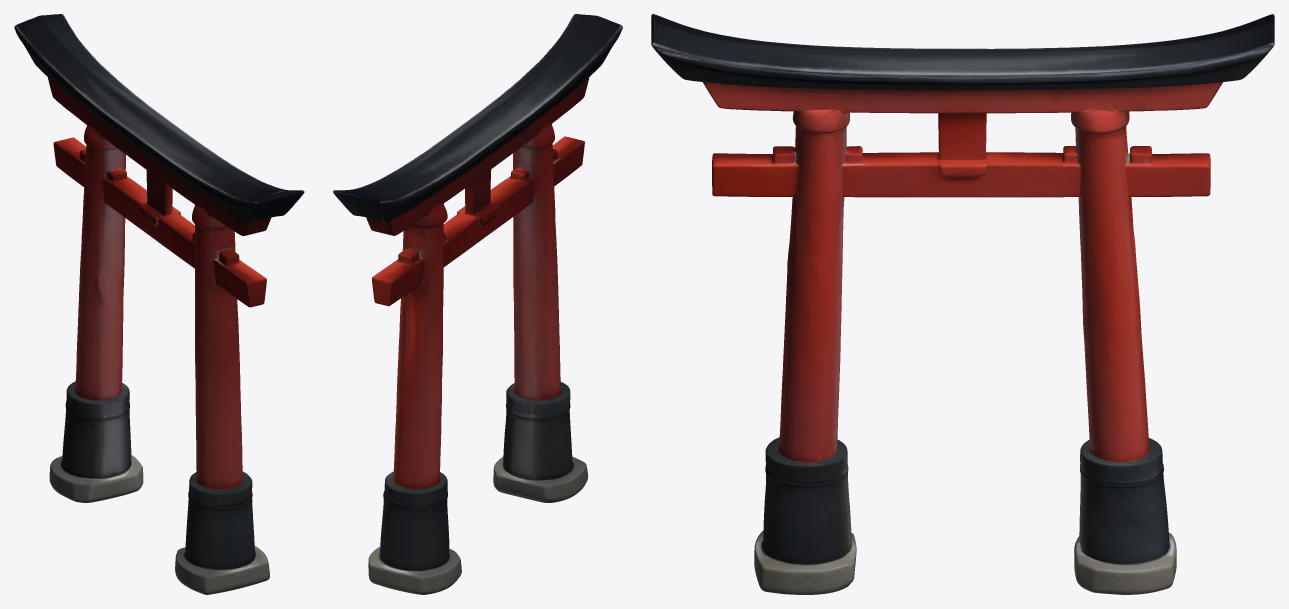
Rendered from city-gate-torii.glb.
3 renders of one model, left to right at view 1: azimuth 30°, elevation 25°; view 2: azimuth 150°, elevation 25°; view 3: azimuth 270°, elevation 25°, orthographic. The views are drawn at different scales.
Parts seen in each view (by area): view 1: tripo_node_249d347b-36fb-42f0-ae8e-8952eec44d99; view 2: tripo_node_249d347b-36fb-42f0-ae8e-8952eec44d99; view 3: tripo_node_249d347b-36fb-42f0-ae8e-8952eec44d99.
Part boxes in pixels (box(x1,y1,x2,y2)): tripo_node_249d347b-36fb-42f0-ae8e-8952eec44d99: box(14, 14, 304, 594); tripo_node_249d347b-36fb-42f0-ae8e-8952eec44d99: box(333, 14, 622, 594); tripo_node_249d347b-36fb-42f0-ae8e-8952eec44d99: box(651, 14, 1274, 594).
Size of the model in its own units: 1.53 by 8 by 8.23.
1 material, 1 textured.
